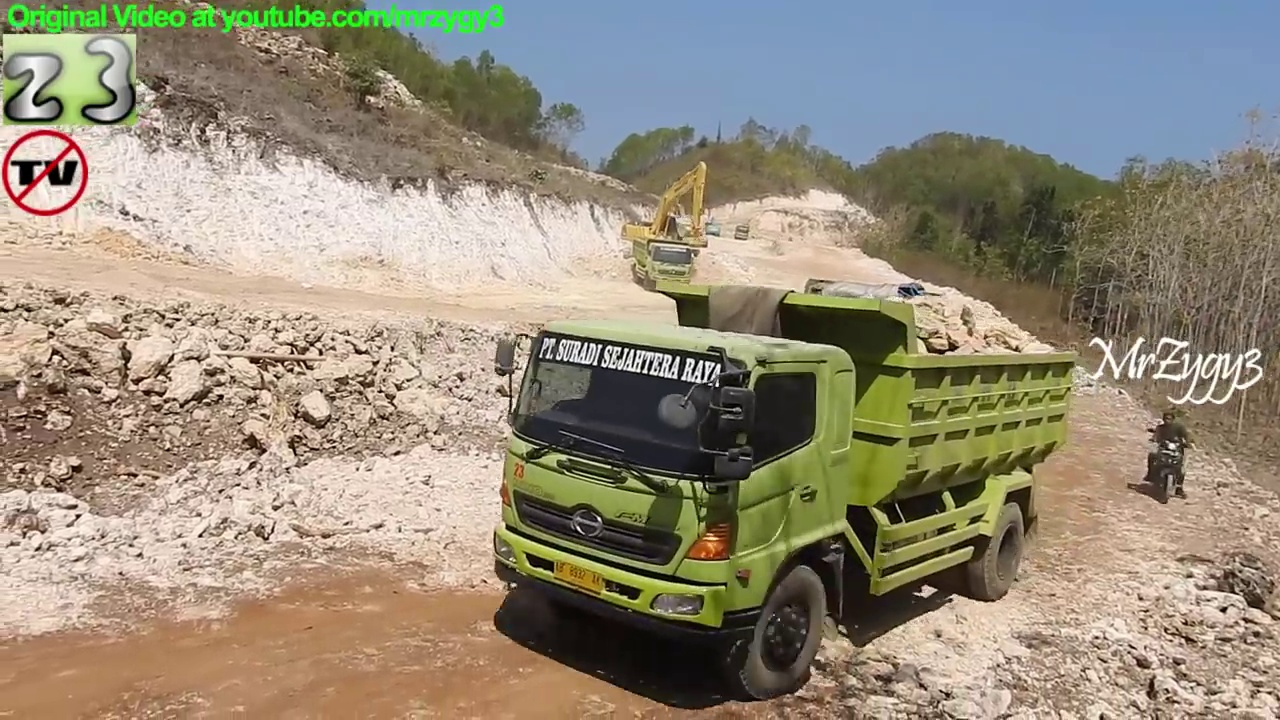excavator: (622, 158, 713, 255), (703, 209, 726, 240)
truck: (488, 281, 1077, 702), (630, 234, 700, 296), (731, 217, 753, 244)
